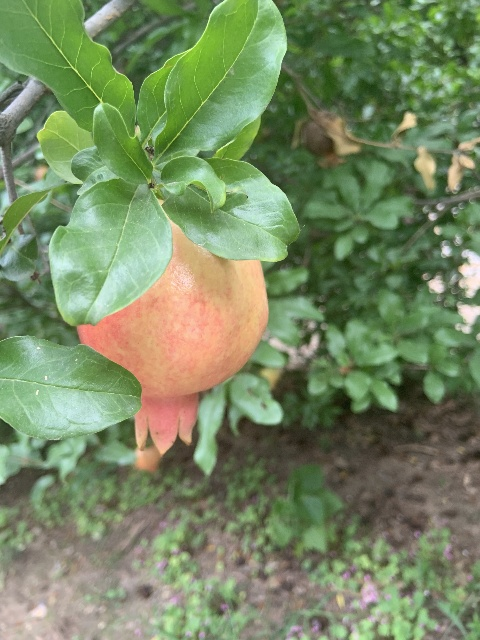ripe: (77, 207, 267, 457)
